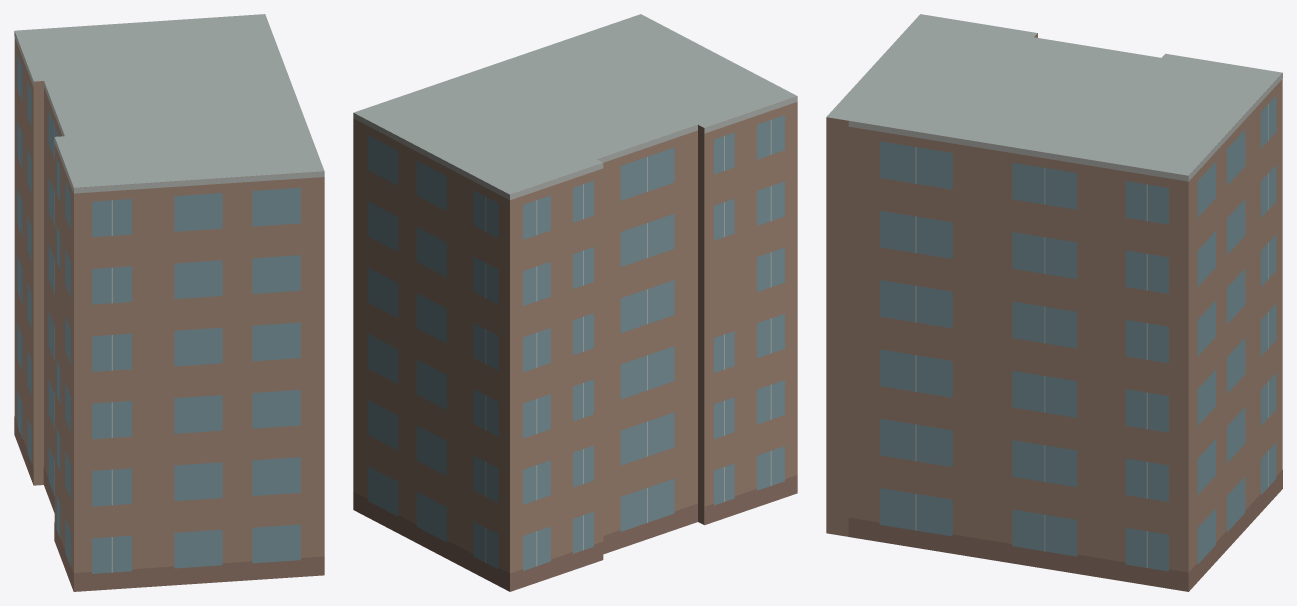
File: survey-upis-32879226.glb
The picture shows the model from 3 angles, left to right: view 1: azimuth 30°, elevation 25°; view 2: azimuth 150°, elevation 25°; view 3: azimuth 270°, elevation 25°; orthographic projection. The views are drawn at different scales.
Parts seen in each view (by area): view 1: survey-upis-32879226.tmp; view 2: survey-upis-32879226.tmp; view 3: survey-upis-32879226.tmp.
Boxes of the visible parts, <box> form: survey-upis-32879226.tmp: <box>14,14,324,591</box>; survey-upis-32879226.tmp: <box>353,14,797,591</box>; survey-upis-32879226.tmp: <box>826,14,1282,591</box>.
Bounding box in the file's own units: 14.34 × 17.2 × 17.11.
